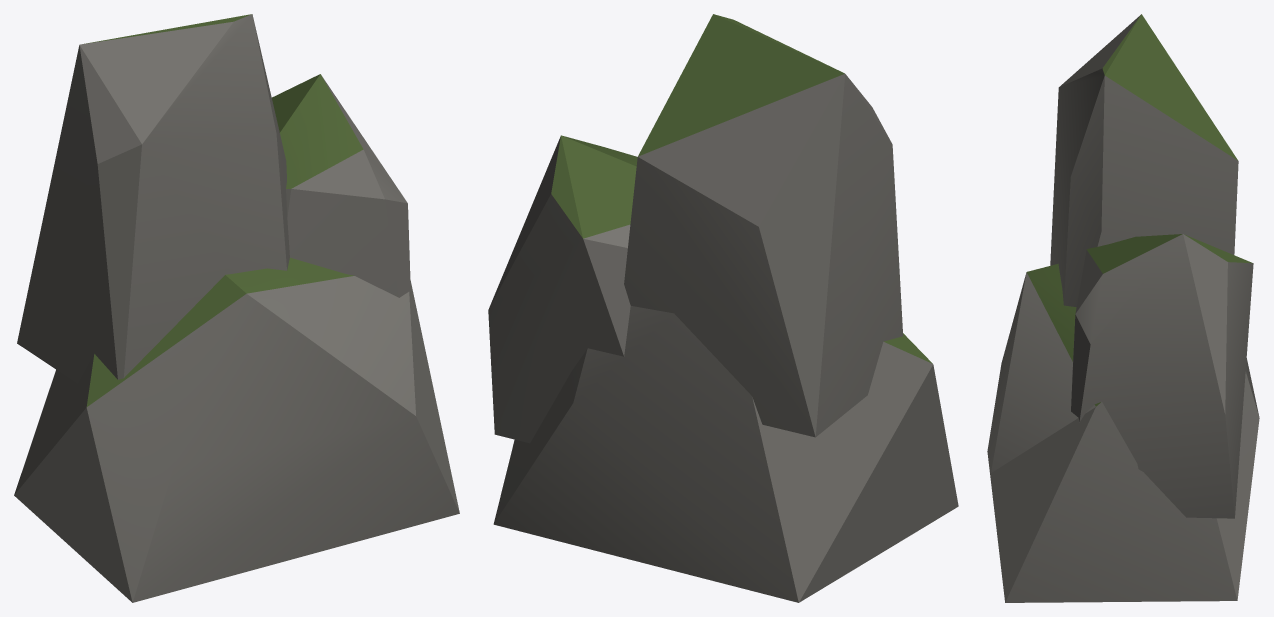
The model's file is RockMass.fbx.
3 renders of one model, left to right at view 1: azimuth 30°, elevation 25°; view 2: azimuth 150°, elevation 25°; view 3: azimuth 270°, elevation 25°, orthographic. The views are drawn at different scales.
Visible parts, largest first — view 1: RockMass; view 2: RockMass; view 3: RockMass.
Part boxes in pixels (x1,y1,x2,y2): RockMass: [14, 14, 459, 602]; RockMass: [488, 14, 958, 602]; RockMass: [987, 14, 1259, 602].
Size of the model in its own units: 2.08 by 2.78 by 1.5.
